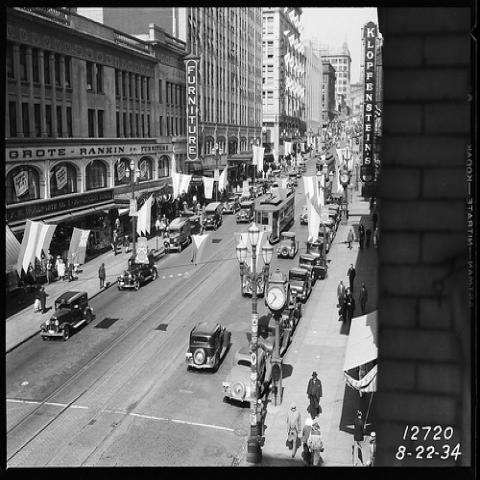bus: (252, 188, 296, 245)
car: (189, 161, 340, 362), (221, 342, 269, 402), (40, 289, 94, 341), (187, 322, 232, 374), (118, 253, 158, 291), (165, 218, 191, 252), (289, 267, 312, 303), (298, 255, 325, 285), (278, 230, 299, 257), (203, 202, 223, 230), (235, 200, 255, 224), (308, 238, 324, 266), (222, 195, 240, 216), (301, 206, 309, 225)
